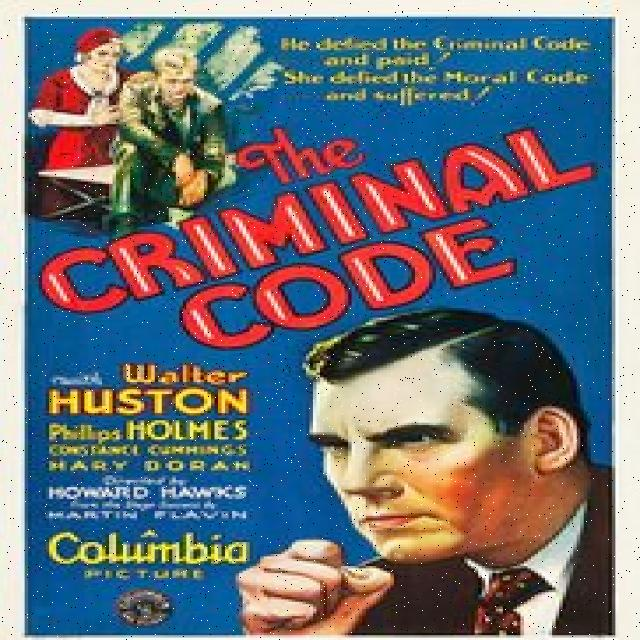movie-judul: (45, 129, 612, 343)
picture: (232, 315, 613, 640), (34, 26, 240, 222)
